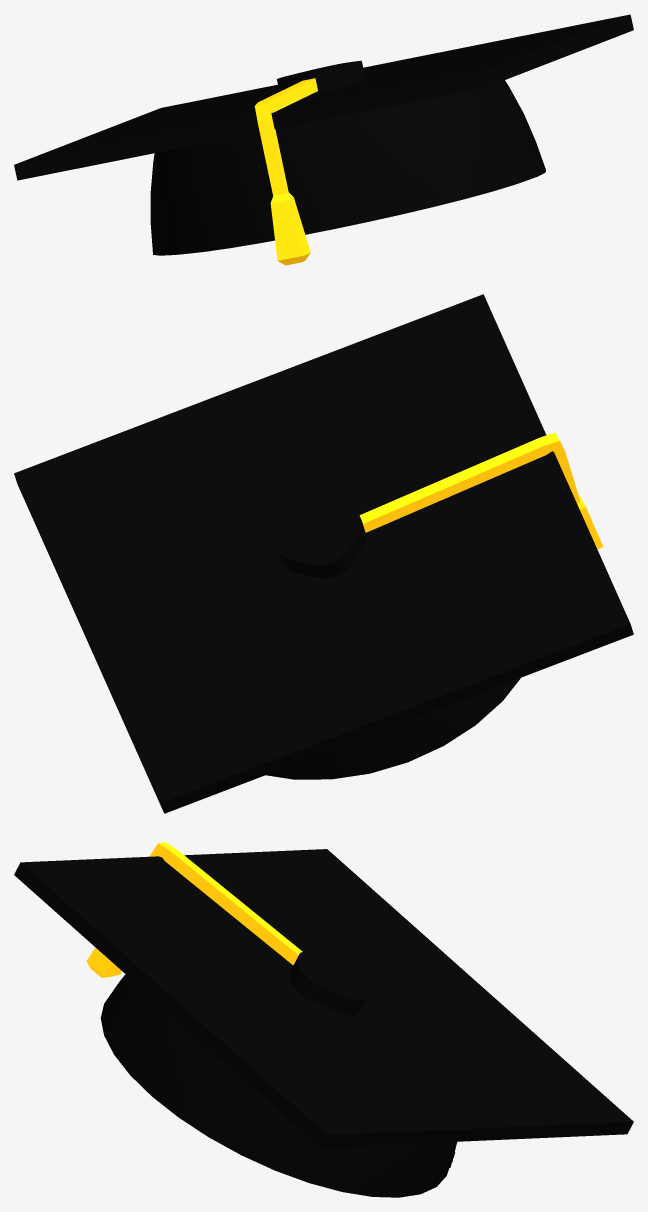
The model's file is graduation_cap.gltf.
3 renders of one model, top to bottom at view 1: azimuth 30°, elevation 25°; view 2: azimuth 150°, elevation 25°; view 3: azimuth 270°, elevation 25°, orthographic. The views are drawn at different scales.
Parts seen in each view (by area): view 1: Circle.1813; view 2: Circle.1813; view 3: Circle.1813.
Boxes of the visible parts, box(x1,y1,x2,y2) form: Circle.1813: box(14, 14, 633, 265); Circle.1813: box(14, 294, 633, 813); Circle.1813: box(14, 842, 633, 1197).
Bounding box in the file's own units: 2.34 × 1.14 × 2.14.
1 material, 1 textured.
